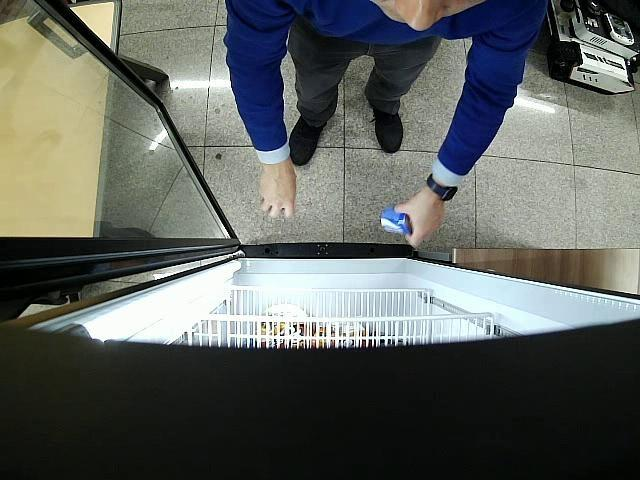13_pocariSweat: (379, 207, 412, 234)
